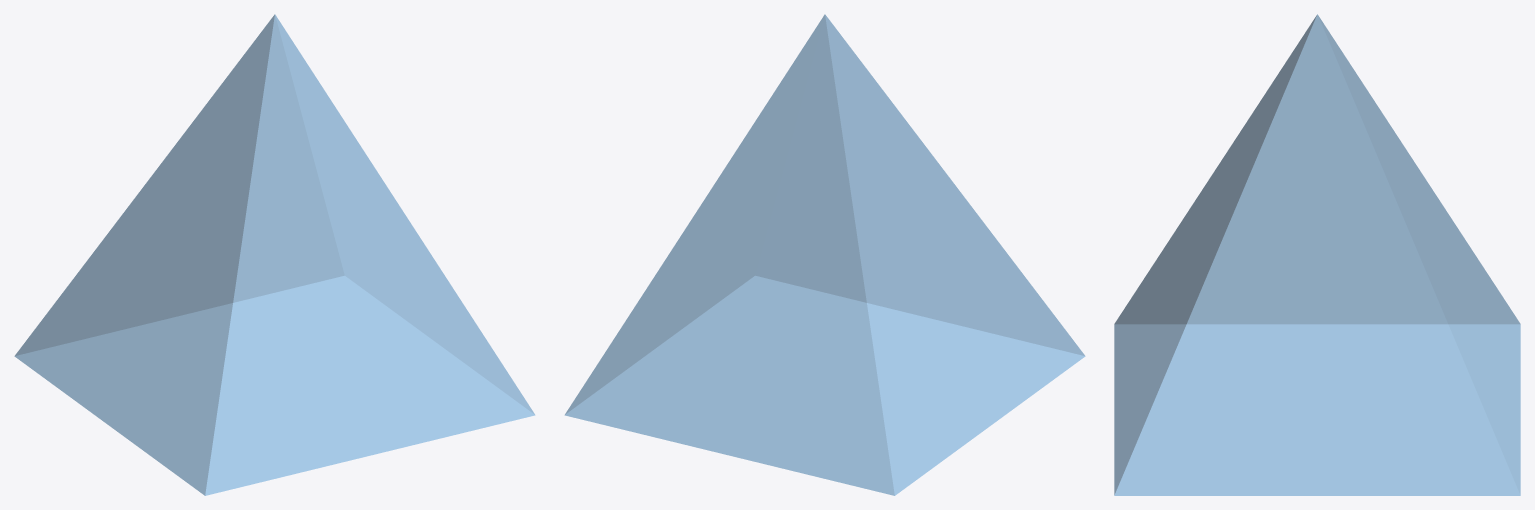
File: piramide0.glb
3 renders of one model, left to right at view 1: azimuth 30°, elevation 25°; view 2: azimuth 150°, elevation 25°; view 3: azimuth 270°, elevation 25°, orthographic. The views are drawn at different scales.
Size of the model in its own units: 4 by 4.3 by 4.
